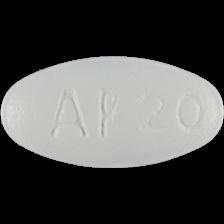68788-9683: (0, 0, 224, 224)
